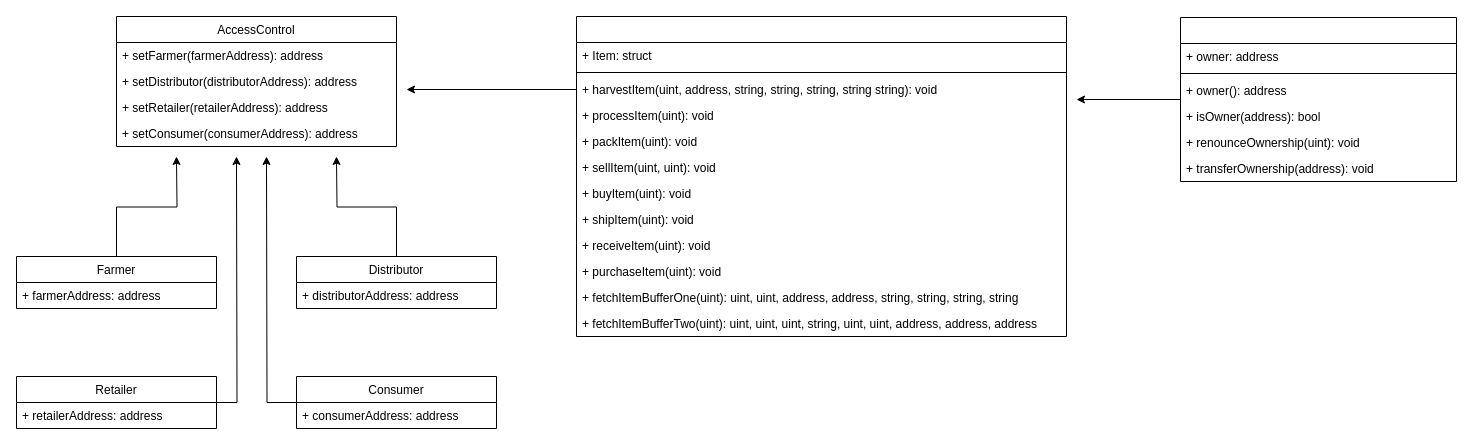
This 1473x445 diagram has some shape labels left out. The box of each missing label's shape, as (x1, y1, x2, y2) in pixels:
Base: (576, 16, 1066, 336)
Core: (1180, 16, 1456, 182)
